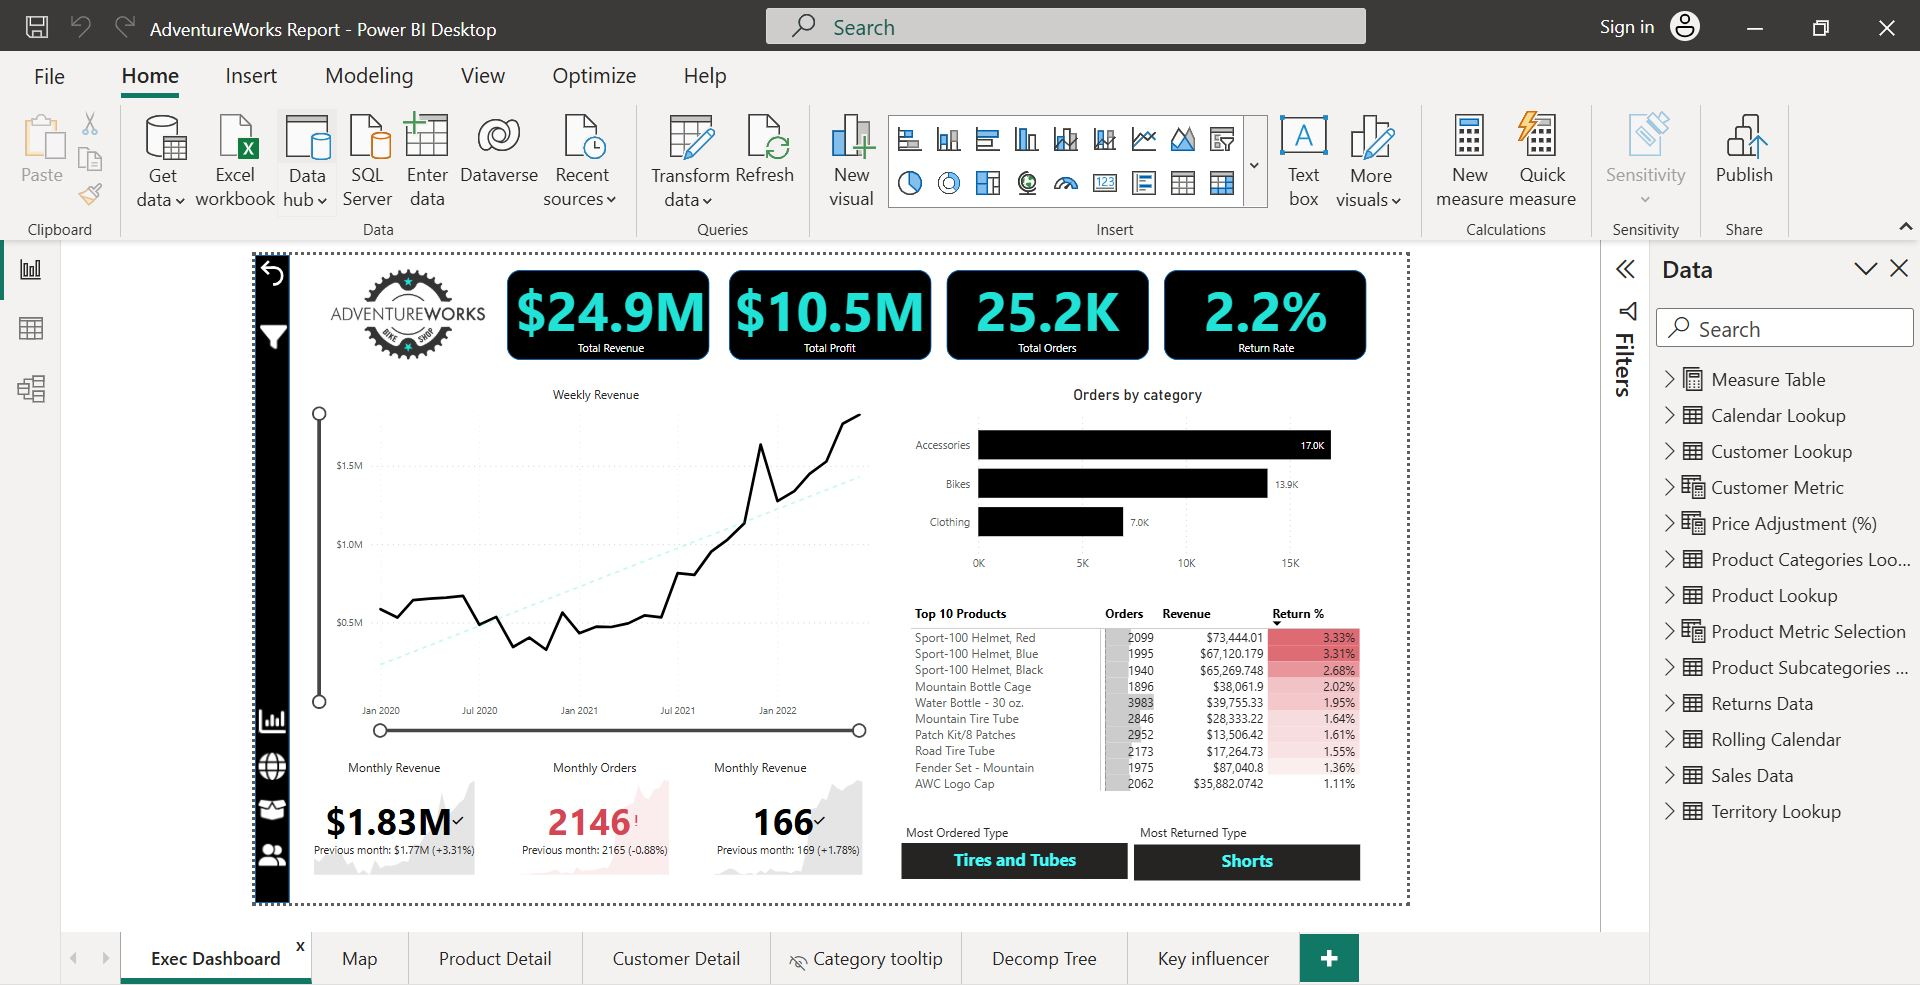

The page's visual inventory and layout, read from the dashboard file:
{"tool":"powerbi","page":{"name":"Exec Dashboard","canvas":[1280,720],"ordinal":0},"visuals":[{"type":"image","title":"AW Logo","box":[60,0,220,131.7],"z":0},{"type":"group","id":"g1","title":"KPI Backgrounds","box":[280,16.7,955,100],"z":0,"group":"g2"},{"type":"shape","box":[280,16.7,225,100],"z":0,"group":"g1"},{"type":"kpi","title":"Monthly Revenue","fields":{"Indicator":["Measure Table.Total Revenue"],"TrendLine":["Calendar Lookup.Start of Month"],"Goal":["Measure Table.Previous Month Revenue"]},"box":[60.4,559.5,189.1,133.5],"z":0,"group":"g3"},{"type":"textbox","box":[718.4,626.2,251.1,36.6],"z":0,"group":"g5"},{"type":"actionButton","box":[0.8,646.6,38.3,40],"z":0,"group":"g4"},{"type":"shape","title":"Left Nav Background","box":[0,0,38.3,720],"z":1000},{"type":"card","fields":{"Values":["Measure Table.Total Revenue"]},"box":[280,0,230,131.7],"z":1000,"group":"g2"},{"type":"shape","box":[526.7,16.7,225,100],"z":1000,"group":"g1"},{"type":"kpi","title":"Monthly Orders","fields":{"TrendLine":["Calendar Lookup.Start of Month"],"Indicator":["Measure Table.Total Orders"],"Goal":["Measure Table.Previous month Orders"]},"box":[290.1,559.5,174.8,133.5],"z":1000,"group":"g3"},{"type":"actionButton","box":[0.8,597.2,38.3,40],"z":1000,"group":"g4"},{"type":"textbox","box":[979.1,626.2,251.1,36.6],"z":1000,"group":"g5"},{"type":"group","id":"g2","title":"KPIs","box":[280,0,958.3,131.7],"z":2000},{"type":"card","fields":{"Values":["Measure Table.Total Profit"]},"box":[522.8,0,230,131.7],"z":2000,"group":"g2"},{"type":"shape","title":"Shape","box":[768.3,16.7,225,100],"z":2000,"group":"g1"},{"type":"actionButton","box":[0.8,547.7,38.3,40],"z":2000,"group":"g4"},{"type":"kpi","title":"Monthly Revenue","fields":{"TrendLine":["Calendar Lookup.Start of Month"],"Indicator":["Measure Table.Total Return"],"Goal":["Measure Table.Previous month Returns"]},"box":[505.4,559.5,174.8,133.5],"z":2000,"group":"g3"},{"type":"card","fields":{"Values":["Min(Product Subcategories Lookup.SubcategoryName)"]},"box":[977.5,653.9,251.1,39.7],"z":2000,"group":"g5"},{"type":"card","fields":{"Values":["Measure Table.Total Orders"]},"box":[765.6,0,230,131.7],"z":3000,"group":"g2"},{"type":"shape","box":[1010,16.7,225,100],"z":3000,"group":"g1"},{"type":"lineChart","title":"Weekly Revenue","fields":{"Y":["Measure Table.Total Revenue"],"Category":["Calendar Lookup.Date Hierarchy.Start of Month"]},"box":[60.4,144.6,637.4,394.2],"z":3000},{"type":"actionButton","box":[0.8,498.3,38.3,40],"z":3000,"group":"g4"},{"type":"card","fields":{"Values":["Min(Product Subcategories Lookup.SubcategoryName)"]},"box":[718.4,653.2,251.1,39.7],"z":3000,"group":"g5"},{"type":"card","fields":{"Values":["Measure Table.Return Rate"]},"box":[1008.3,0,230,131.7],"z":4000,"group":"g2"},{"type":"clusteredBarChart","title":"Orders by category","fields":{"Category":["Product Categories Lookup.CategoryName"],"Y":["Measure Table.Total Orders"]},"box":[723.3,145,515,215],"z":4000},{"type":"group","id":"g3","title":"Group 1","box":[60.4,559.5,619.9,133.5],"z":5000},{"type":"pivotTable","fields":{"Rows":["Product Lookup.ProductName"],"Values":["Measure Table.Total Orders","Measure Table.Total Revenue","Measure Table.Return Rate"]},"box":[723.2,383,515,230.5],"z":6000},{"type":"actionButton","box":[0,0,38.3,40],"z":7000},{"type":"group","id":"g4","title":"Navigation Buttons","box":[0.8,498.3,38.3,188.3],"z":8000},{"type":"actionButton","box":[1.6,66.8,38.1,49.3],"z":9000},{"type":"group","id":"g5","title":"Group 2","box":[718.4,626.2,511.8,66.8],"z":11000}]}

Visuals, with their boxes on the page's 1280x720 design canvas (x1, y1, x2, y2). These are canvas units, not pixel positions in the 1920x985 screenshot, which may show the page scaled, cropped or inside an application window:
"AW Logo" image: select_region(60, 0, 280, 132)
"KPI Backgrounds" group: select_region(280, 17, 1235, 117)
shape: select_region(280, 17, 505, 117)
"Monthly Revenue" kpi: select_region(60, 560, 250, 693)
textbox: select_region(718, 626, 970, 663)
actionButton: select_region(1, 647, 39, 687)
"Left Nav Background" shape: select_region(0, 0, 38, 720)
card - Measure Table.Total Revenue: select_region(280, 0, 510, 132)
shape: select_region(527, 17, 752, 117)
"Monthly Orders" kpi: select_region(290, 560, 465, 693)
actionButton: select_region(1, 597, 39, 637)
textbox: select_region(979, 626, 1230, 663)
"KPIs" group: select_region(280, 0, 1238, 132)
card - Measure Table.Total Profit: select_region(523, 0, 753, 132)
"Shape" shape: select_region(768, 17, 993, 117)
actionButton: select_region(1, 548, 39, 588)
"Monthly Revenue" kpi: select_region(505, 560, 680, 693)
card - Min(Product Subcategories Lookup.SubcategoryName): select_region(978, 654, 1229, 694)
card - Measure Table.Total Orders: select_region(766, 0, 996, 132)
shape: select_region(1010, 17, 1235, 117)
"Weekly Revenue" lineChart: select_region(60, 145, 698, 539)
actionButton: select_region(1, 498, 39, 538)
card - Min(Product Subcategories Lookup.SubcategoryName): select_region(718, 653, 970, 693)
card - Measure Table.Return Rate: select_region(1008, 0, 1238, 132)
"Orders by category" clusteredBarChart: select_region(723, 145, 1238, 360)
"Group 1" group: select_region(60, 560, 680, 693)
pivotTable - Product Lookup.ProductName x Measure Table.Total Orders: select_region(723, 383, 1238, 614)
actionButton: select_region(0, 0, 38, 40)
"Navigation Buttons" group: select_region(1, 498, 39, 687)
actionButton: select_region(2, 67, 40, 116)
"Group 2" group: select_region(718, 626, 1230, 693)
